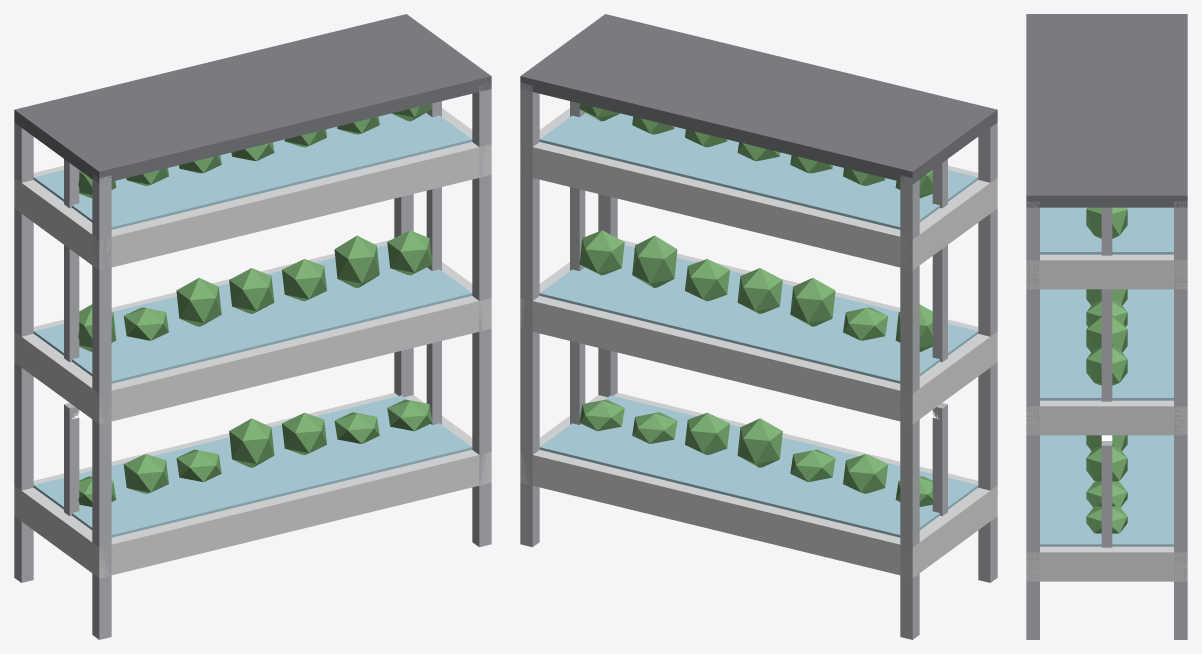
Rendered from SM_Hydro_Rack.glb.
3 renders of one model, left to right at view 1: azimuth 30°, elevation 25°; view 2: azimuth 150°, elevation 25°; view 3: azimuth 270°, elevation 25°, orthographic. The views are drawn at different scales.
Visible parts, largest first — view 1: SM_Hydro_Rack; view 2: SM_Hydro_Rack; view 3: SM_Hydro_Rack.
Part boxes in pixels (x1,y1,x2,y2): SM_Hydro_Rack: (14, 14, 491, 639); SM_Hydro_Rack: (520, 14, 997, 639); SM_Hydro_Rack: (1026, 14, 1187, 639).
Bounding box in the file's own units: 1.6 × 1.82 × 0.6.
